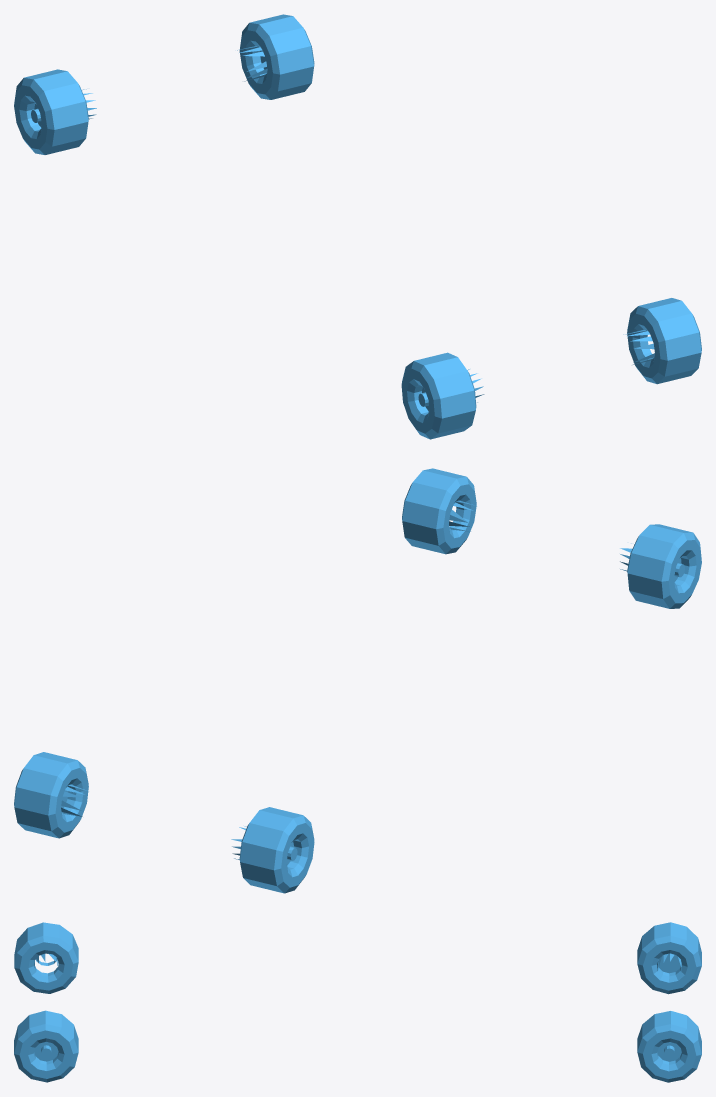
Rendered from light_blue.glb.
The picture shows the model from 3 angles, top to bottom: view 1: azimuth 30°, elevation 25°; view 2: azimuth 150°, elevation 25°; view 3: azimuth 270°, elevation 25°; orthographic projection. The views are drawn at different scales.
Parts seen in each view (by area): view 1: WheelFR, WheelRR, WheelFL, WheelRL; view 2: WheelFR, WheelRR, WheelFL, WheelRL; view 3: WheelRL, WheelFL, WheelFR, WheelRR.
Boxes of the visible parts, left/top/right/bottom form: WheelFR: left=14, top=69, right=96, bottom=154; WheelRR: left=401, top=352, right=484, bottom=439; WheelFL: left=237, top=14, right=314, bottom=99; WheelRL: left=623, top=298, right=701, bottom=384; WheelFR: left=231, top=807, right=314, bottom=893; WheelRR: left=620, top=524, right=701, bottom=608; WheelFL: left=14, top=752, right=88, bottom=838; WheelRL: left=402, top=468, right=476, bottom=554; WheelRL: left=14, top=1010, right=78, bottom=1082; WheelFL: left=637, top=1011, right=701, bottom=1082; WheelFR: left=637, top=922, right=701, bottom=994; WheelRR: left=14, top=922, right=78, bottom=993.
Bounding box in the file's own units: 3.29 × 0.8599 × 9.13.
Materials: 1 (1 with a texture image).
